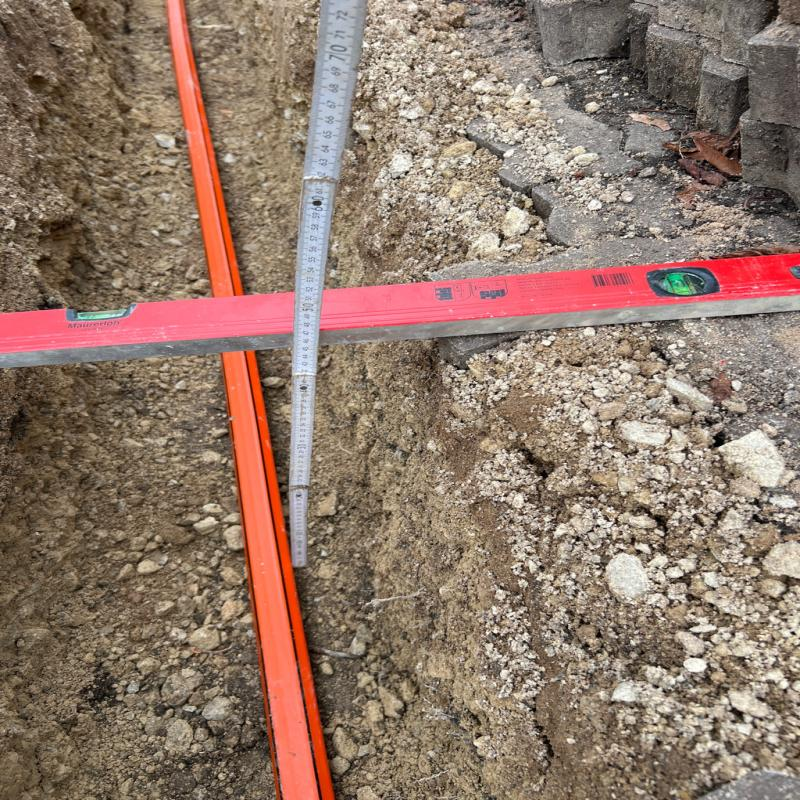Orang-Speednetrohrchen: (168, 26, 331, 800)
